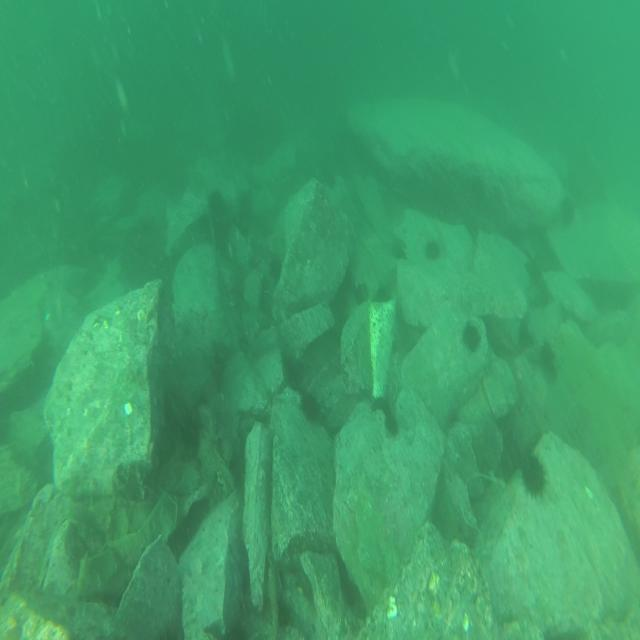echinus: (522, 454, 548, 499), (461, 320, 483, 355), (302, 393, 323, 427), (208, 189, 225, 219), (426, 237, 442, 263)
